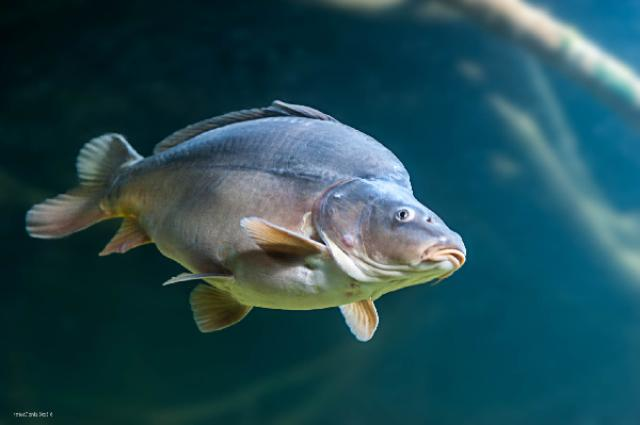Mulut: (418, 231, 480, 289)
Sirip Anal: (95, 218, 151, 272)
Sirip Dada: (233, 197, 333, 271), (329, 292, 386, 348)
Sirip Ekor: (14, 127, 144, 250)
Sirip Perut: (159, 267, 257, 339)
Sirip Punggung: (150, 94, 366, 164)
